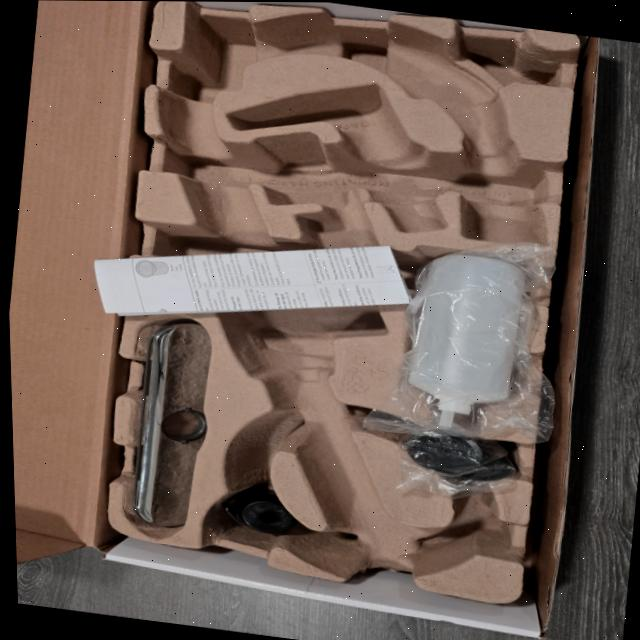1m: (161, 10, 540, 590)
2m: (227, 82, 445, 230)
3: (402, 250, 530, 427)
4: (131, 320, 207, 524)
5: (220, 488, 294, 536)
6m: (411, 504, 518, 572)
7o: (396, 423, 521, 496)
8: (91, 245, 409, 316)
